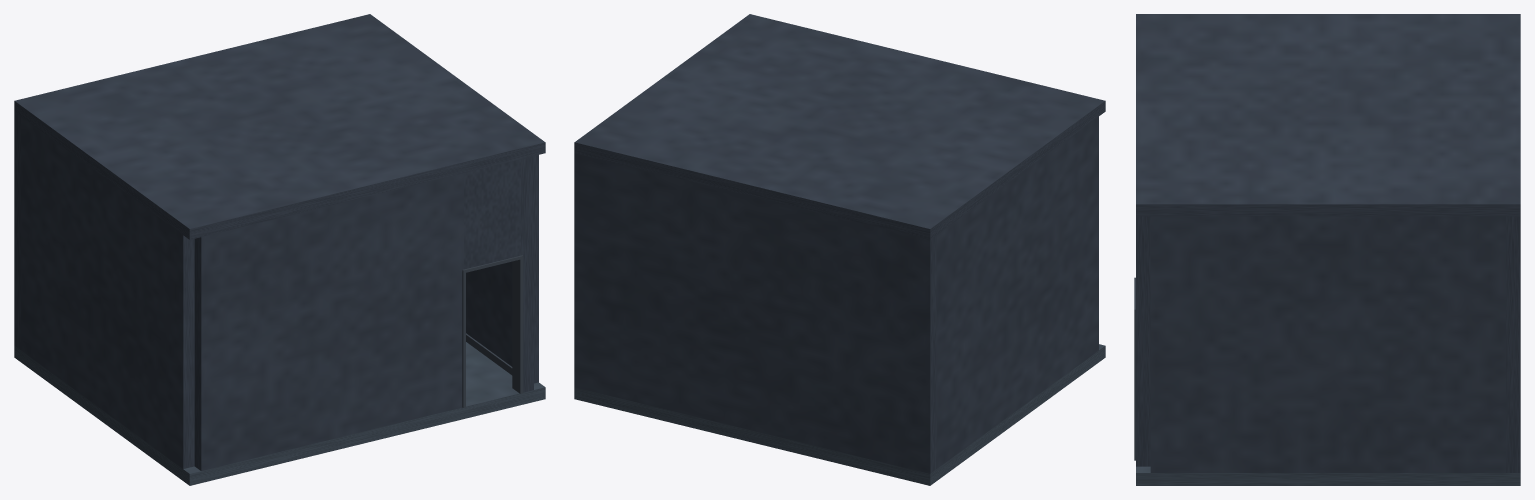
Rendered from dark_cell_textured.glb.
3 renders of one model, left to right at view 1: azimuth 30°, elevation 25°; view 2: azimuth 150°, elevation 25°; view 3: azimuth 270°, elevation 25°, orthographic. The views are drawn at different scales.
Visible parts, largest first — view 1: 推定_厚顶板, 推定_前墙左, 推定_左墙, 推定_厚地板, 推定_入口过梁, 推定_右墙, 推定_前墙右, 推定_后墙, 推定_入口竖向收边.001; view 2: 推定_后墙, 推定_厚顶板, 推定_左墙, 推定_厚地板; view 3: 推定_右墙, 推定_厚顶板, 推定_厚地板, 推定_后墙, 推定_前墙右.
Part boxes in pixels (x1,y1,x2,y2): 推定_厚顶板: (14,14,545,239); 推定_前墙左: (194,173,463,470); 推定_左墙: (21,116,194,468); 推定_厚地板: (14,342,545,485); 推定_入口过梁: (464,159,520,269); 推定_右墙: (466,155,538,383); 推定_前墙右: (521,156,533,392); 推定_后墙: (14,112,20,349); 推定_入口竖向收边.001: (512,257,523,393); 推定_后墙: (574,153,936,473); 推定_厚顶板: (574,14,1105,239); 推定_左墙: (936,116,1098,468); 推定_厚地板: (574,344,1105,485); 推定_右墙: (1150,216,1505,472); 推定_厚顶板: (1136,14,1520,216); 推定_厚地板: (1136,466,1520,485); 推定_后墙: (1506,216,1520,472); 推定_前墙右: (1136,216,1150,466).
Bounding box in the file's own units: 6.84 × 4.72 × 5.87.
5 materials, 2 textured.
